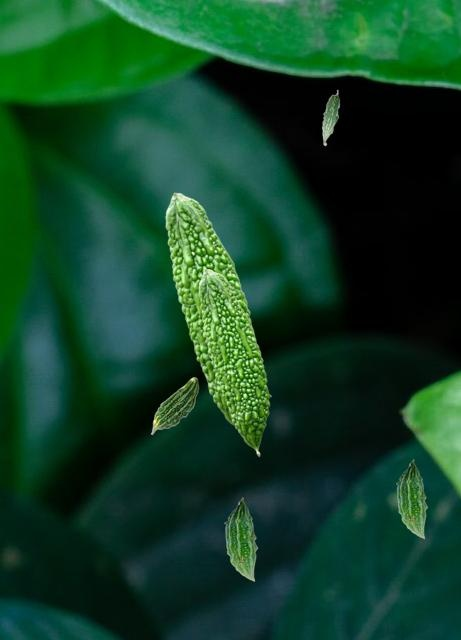ampalaya: (165, 192, 254, 425), (198, 268, 272, 457), (224, 497, 258, 581), (150, 377, 199, 435), (395, 459, 428, 539), (321, 89, 340, 146)
